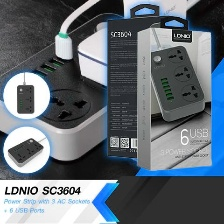book: (132, 25, 213, 171), (103, 14, 172, 162)
three_eye_plug: (0, 9, 175, 164), (5, 137, 44, 168), (13, 82, 36, 116)
